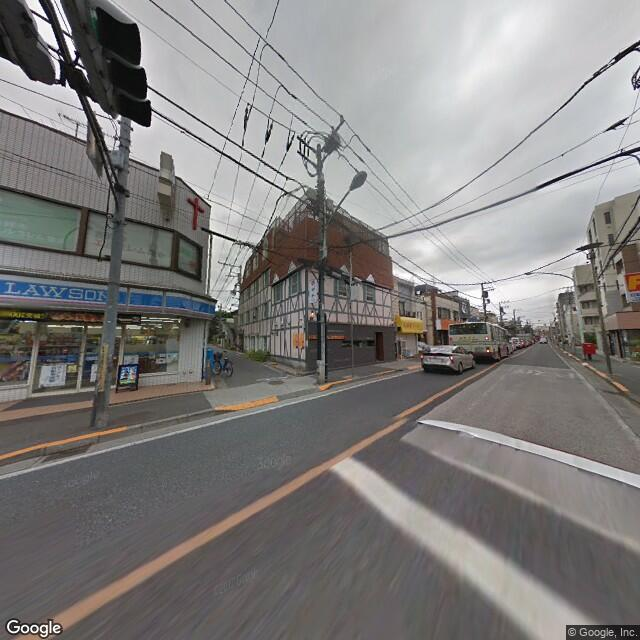lawson: (2, 270, 213, 324)
